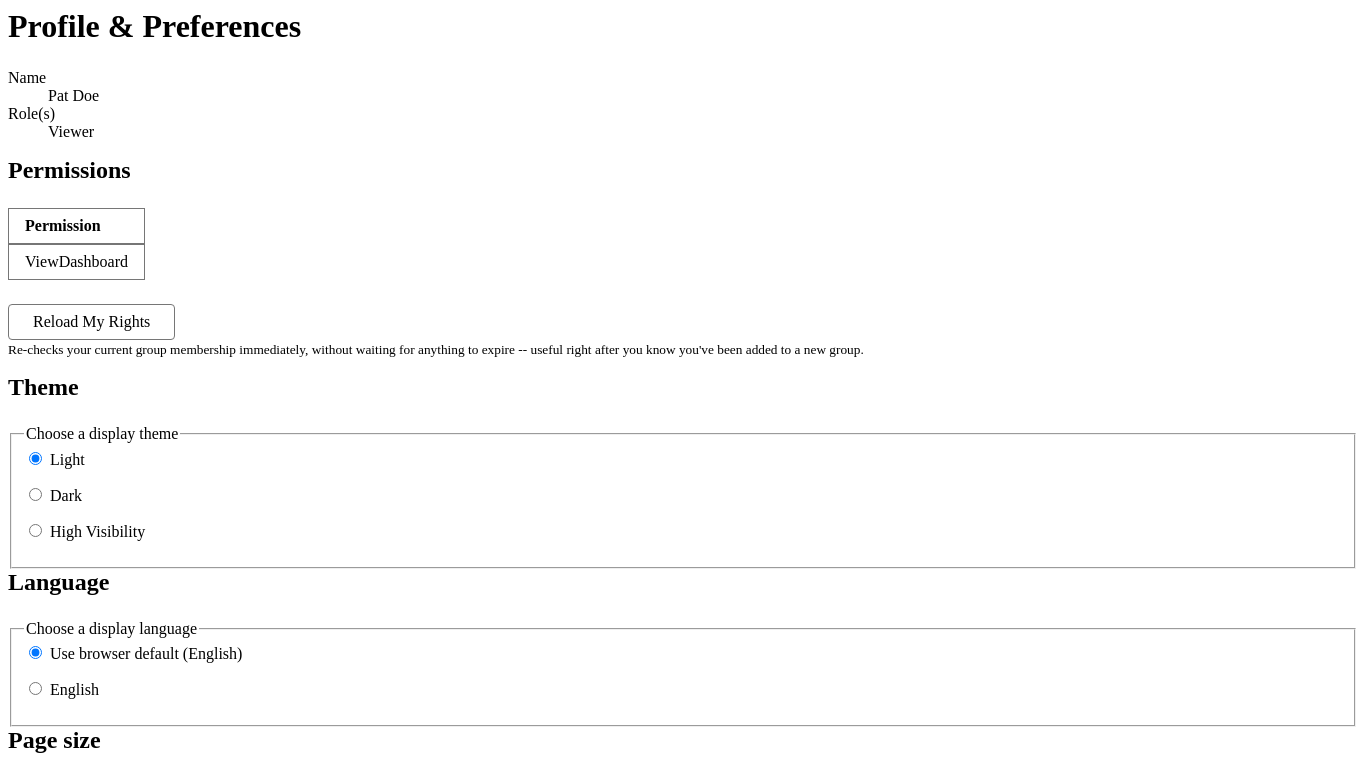
Test case: MyProfile › a failed reload shows the error beside the button, not instead of the page
The width and height of the screenshot is (1366, 768).
Click the button "Reload My Rights" at (92, 322), box [8,304,175,340]
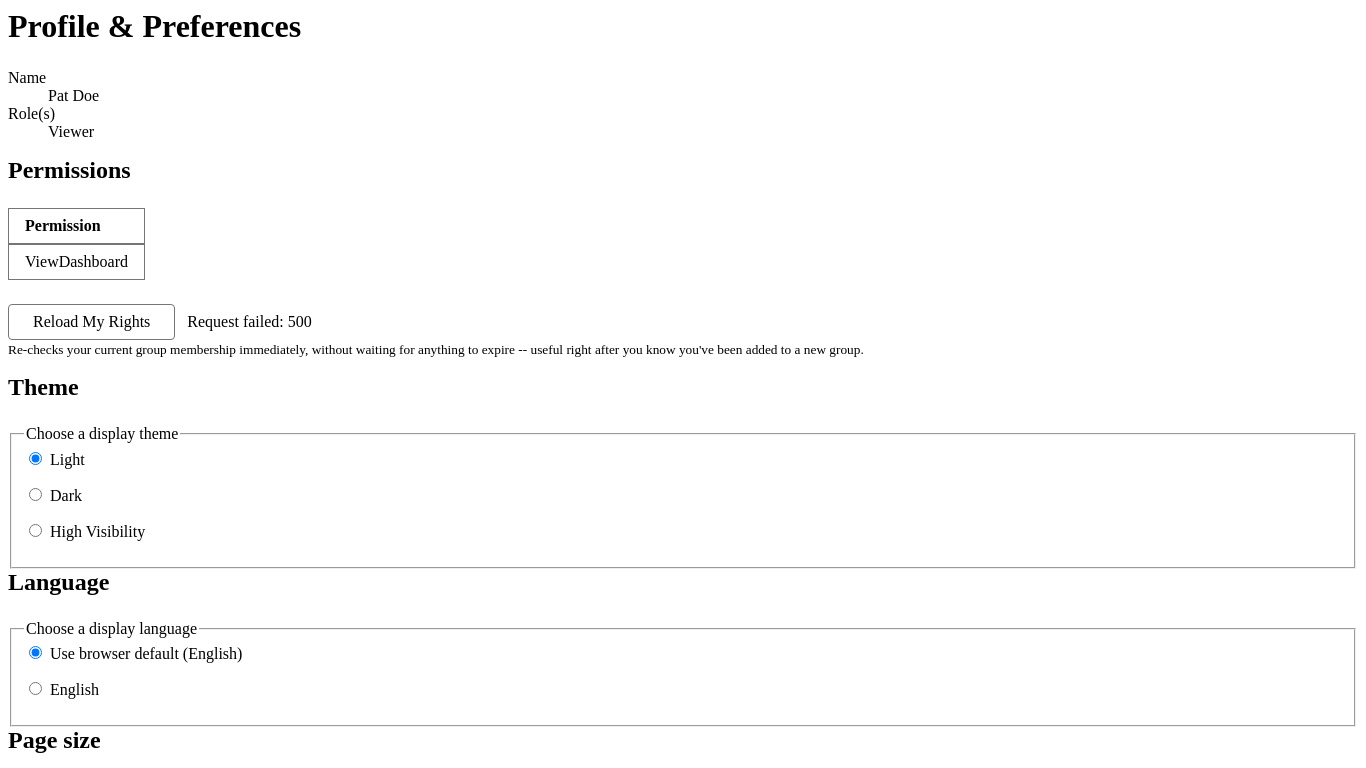
Expected: the element showing "Name Pat Doe Role(s) Viewer" is shown, [8,69,99,140]
Expected: the message "Request failed: 500" is shown, [183,313,312,330]
